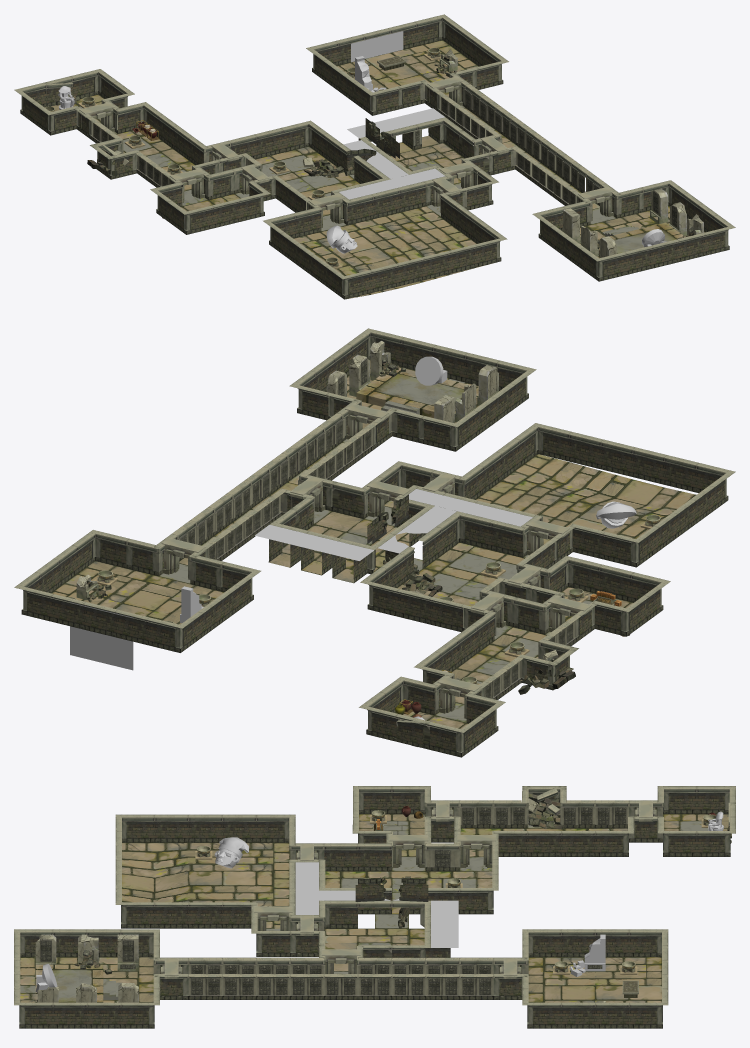
Rendered from podzemka.FBX.
The picture shows the model from 3 angles, top to bottom: view 1: azimuth 30°, elevation 25°; view 2: azimuth 150°, elevation 25°; view 3: azimuth 270°, elevation 25°; orthographic projection. The views are drawn at different scales.
Visible parts, largest first — view 1: s1_005, Object028, door, Object135, Object027, Object037, Object040, Plane001, Object002, Object044, Object045, Object029 (+7 smaller); view 2: s1_005, Object028, door, Object135, Object037, Object002, Object027, Plane001, Object040, Object127, Object045, Object029 (+4 smaller); view 3: s1_005, Object028, door, Object027, Object135, Object037, Object002, Object032, Object029, Object094, Object040, Object044 (+9 smaller).
Part boxes in pixels (x1=…): s1_005: x1=14, y1=14, x2=735, y2=299; Object028: x1=255, y1=51, x2=487, y2=297; door: x1=79, y1=76, x2=614, y2=227; Object135: x1=339, y1=108, x2=445, y2=199; Object027: x1=293, y1=40, x2=492, y2=299; Object037: x1=349, y1=108, x2=599, y2=288; Object040: x1=235, y1=155, x2=346, y2=231; Plane001: x1=351, y1=31, x2=403, y2=62; Object002: x1=597, y1=222, x2=685, y2=256; Object044: x1=390, y1=143, x2=464, y2=166; Object045: x1=116, y1=130, x2=195, y2=191; Object029: x1=365, y1=53, x2=430, y2=85; s1_005: x1=14, y1=328, x2=735, y2=757; Object028: x1=67, y1=458, x2=696, y2=624; door: x1=161, y1=403, x2=591, y2=718; Object135: x1=255, y1=489, x2=532, y2=560; Object037: x1=179, y1=442, x2=664, y2=565; Object002: x1=356, y1=367, x2=478, y2=417; Object027: x1=51, y1=454, x2=552, y2=598; Plane001: x1=70, y1=602, x2=133, y2=670; Object040: x1=427, y1=553, x2=528, y2=639; Object127: x1=268, y1=539, x2=367, y2=582; Object045: x1=452, y1=627, x2=546, y2=704; Object029: x1=114, y1=583, x2=180, y2=616; s1_005: x1=14, y1=786, x2=735, y2=1028; Object028: x1=122, y1=849, x2=645, y2=1002; door: x1=161, y1=801, x2=656, y2=996; Object027: x1=122, y1=842, x2=661, y2=1002; Object135: x1=295, y1=862, x2=458, y2=947; Object037: x1=122, y1=871, x2=357, y2=971; Object002: x1=35, y1=964, x2=103, y2=1002; Object032: x1=20, y1=957, x2=153, y2=1002; Object029: x1=544, y1=985, x2=661, y2=999; Object094: x1=355, y1=876, x2=428, y2=901; Object040: x1=341, y1=857, x2=492, y2=900; Object044: x1=324, y1=928, x2=424, y2=945.
Bounding box in the file's own units: 93.37 × 14.89 × 128.
